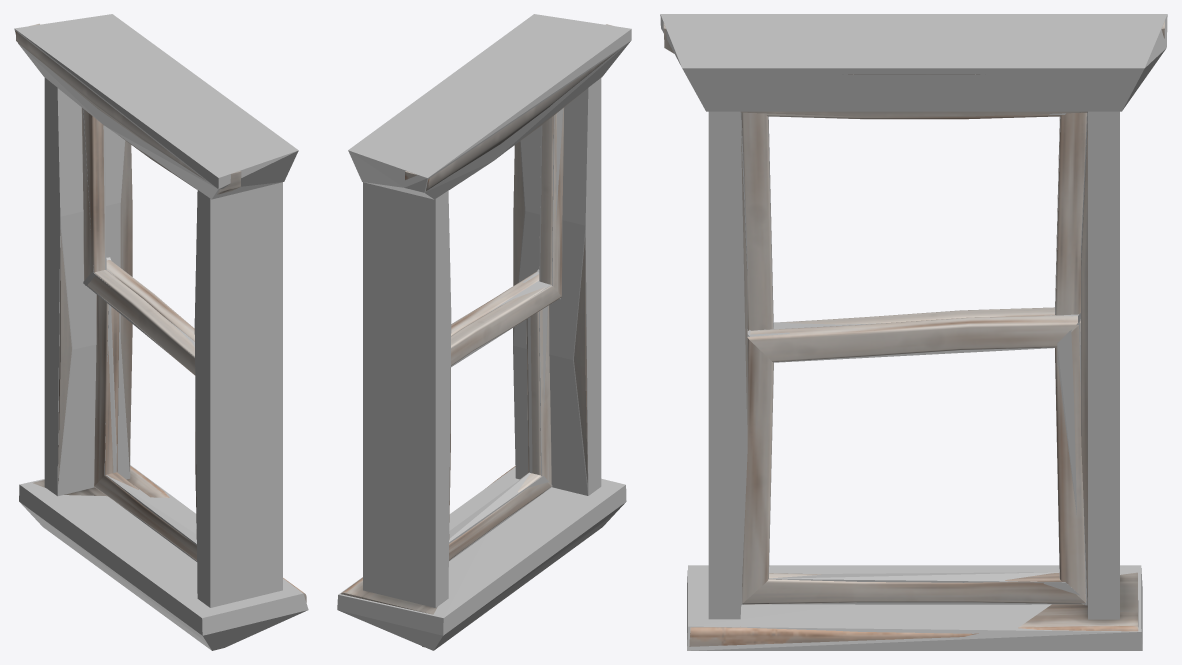
File: SM_PropWindow01TypeA_2_2.fbx
The picture shows the model from 3 angles, left to right: view 1: azimuth 30°, elevation 25°; view 2: azimuth 150°, elevation 25°; view 3: azimuth 270°, elevation 25°; orthographic projection. The views are drawn at different scales.
Visible parts, largest first — view 1: SM_PropWindow01TypeA_2_2_ConvexHulls, SM_PropWindow01TypeA_2_2; view 2: SM_PropWindow01TypeA_2_2_ConvexHulls, SM_PropWindow01TypeA_2_2; view 3: SM_PropWindow01TypeA_2_2_ConvexHulls, SM_PropWindow01TypeA_2_2.
Boxes of the visible parts, bbox=[...] form: SM_PropWindow01TypeA_2_2_ConvexHulls: bbox=[14, 14, 308, 650]; SM_PropWindow01TypeA_2_2: bbox=[15, 23, 306, 602]; SM_PropWindow01TypeA_2_2_ConvexHulls: bbox=[337, 14, 631, 650]; SM_PropWindow01TypeA_2_2: bbox=[341, 24, 617, 647]; SM_PropWindow01TypeA_2_2_ConvexHulls: bbox=[660, 14, 1167, 650]; SM_PropWindow01TypeA_2_2: bbox=[663, 21, 1164, 646].
Size of the model in its own units: 45.04 by 150 by 198.
2 materials, 1 textured.
